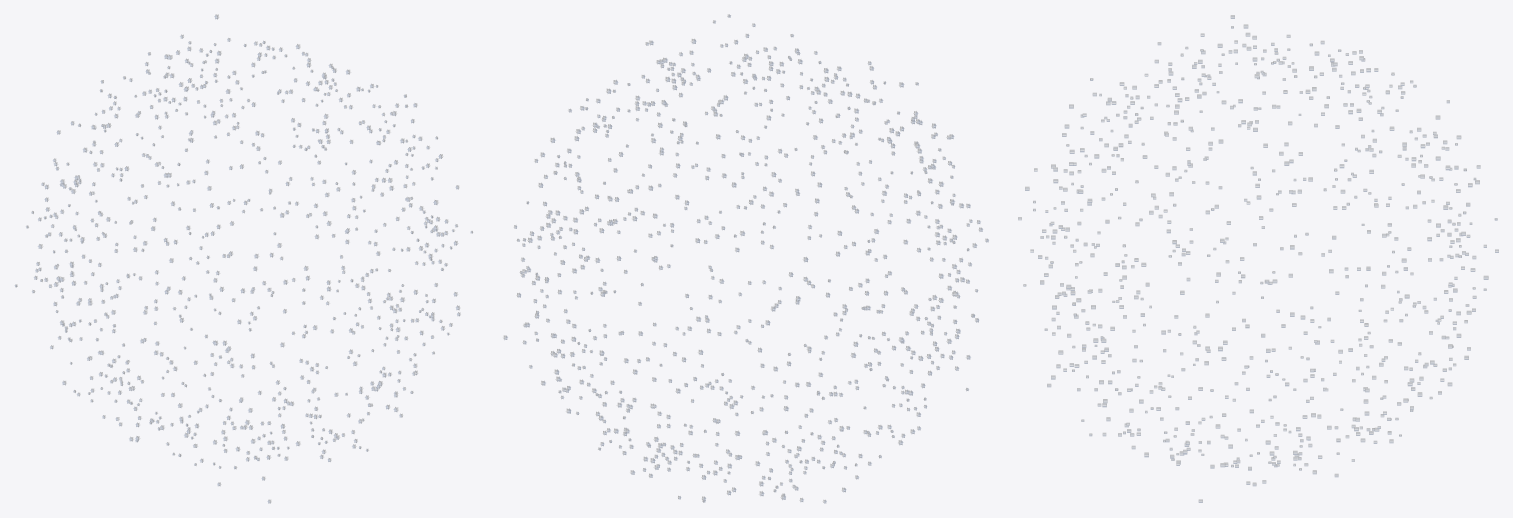
The model's file is fw_chrys_red_gold_c.glb.
The picture shows the model from 3 angles, left to right: view 1: azimuth 30°, elevation 25°; view 2: azimuth 150°, elevation 25°; view 3: azimuth 270°, elevation 25°; orthographic projection. The views are drawn at different scales.
Visible parts, largest first — view 1: spire; view 2: spire; view 3: spire.
Boxes of the visible parts, x1=… form: spire: x1=14, y1=14, x2=473, y2=503; spire: x1=503, y1=14, x2=988, y2=503; spire: x1=1018, y1=15, x2=1498, y2=502.
Size of the model in its own units: 26.37 by 27.83 by 27.38.
Materials: 1 (1 with a texture image).
